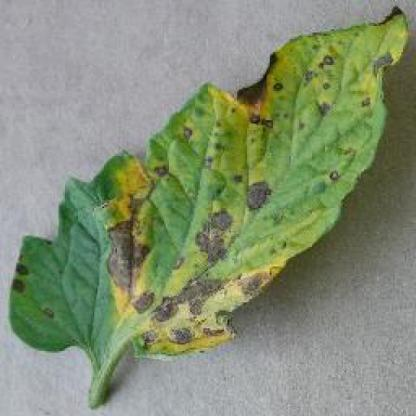Tomato_Blight: (8, 6, 408, 356)
